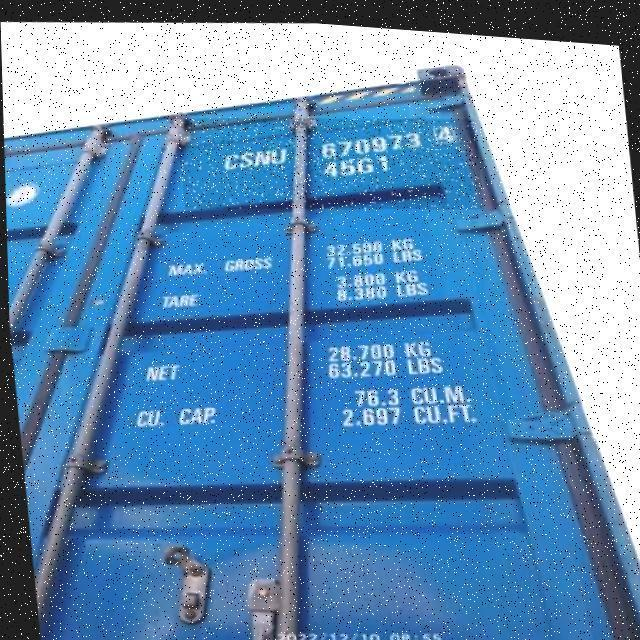container_number_h: (175, 94, 483, 222)
